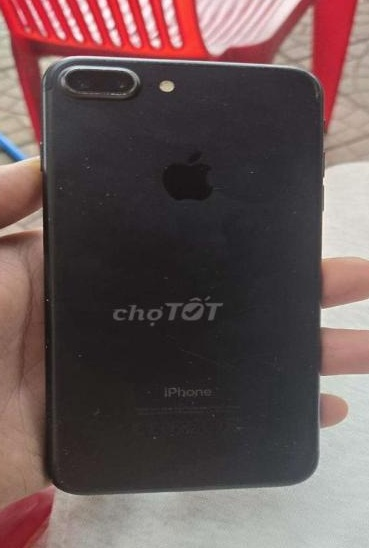scratch: (203, 409, 308, 458), (169, 340, 320, 371), (57, 60, 141, 99), (70, 152, 124, 209), (137, 374, 217, 406), (165, 55, 280, 73), (303, 68, 325, 100), (272, 198, 301, 217), (121, 128, 139, 153), (214, 94, 231, 109), (141, 430, 160, 443), (42, 205, 53, 224), (239, 163, 258, 174), (91, 398, 100, 420), (306, 298, 319, 313), (160, 267, 176, 279), (203, 281, 222, 291), (37, 137, 48, 153), (70, 352, 84, 362), (180, 202, 193, 211), (288, 268, 299, 276), (42, 295, 51, 304), (53, 181, 64, 188), (161, 161, 168, 167)
